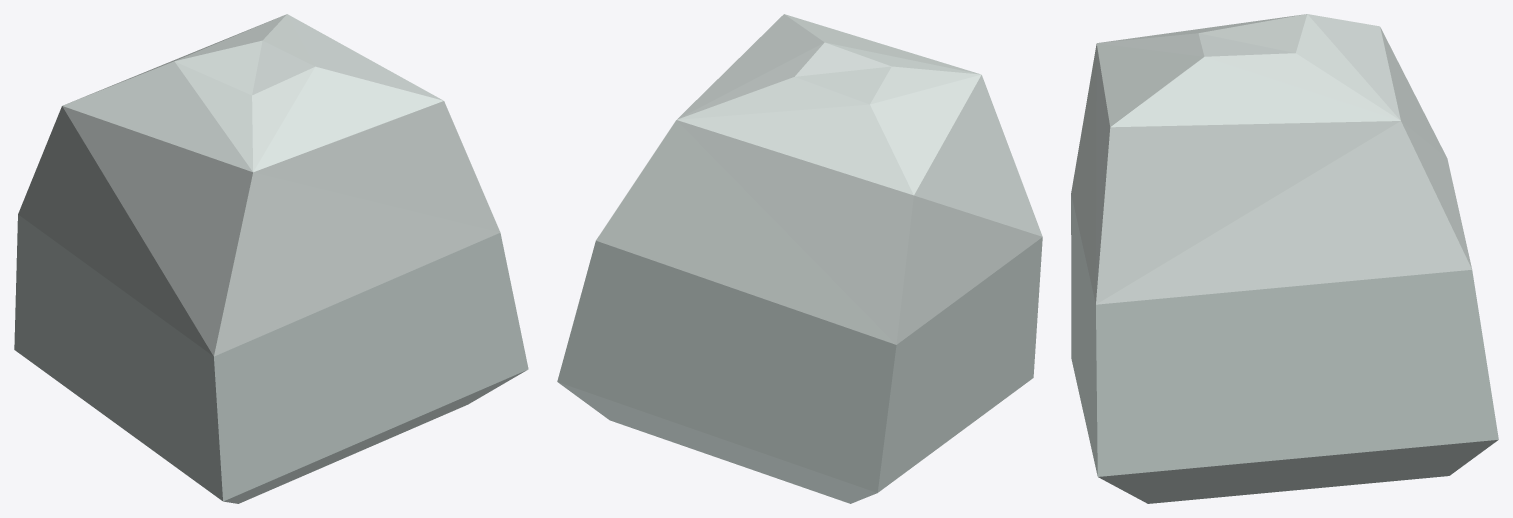
File: rock2.glb
The picture shows the model from 3 angles, left to right: view 1: azimuth 30°, elevation 25°; view 2: azimuth 150°, elevation 25°; view 3: azimuth 270°, elevation 25°; orthographic projection. The views are drawn at different scales.
Parts seen in each view (by area): view 1: Cube.004; view 2: Cube.004; view 3: Cube.004.
Boxes of the visible parts, x1,y1,x2,y2 form: Cube.004: [14, 14, 528, 503]; Cube.004: [557, 14, 1042, 503]; Cube.004: [1071, 14, 1498, 503].
Bounding box in the file's own units: 1.19 × 1.25 × 1.16.
Materials: 1 (1 with a texture image).
